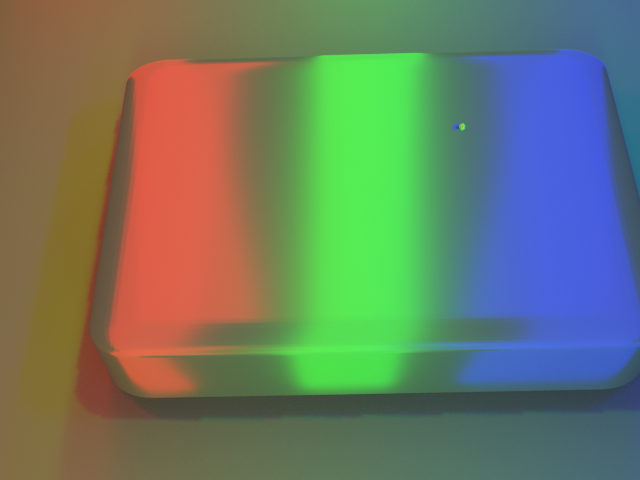dent: (459, 100, 490, 138)
